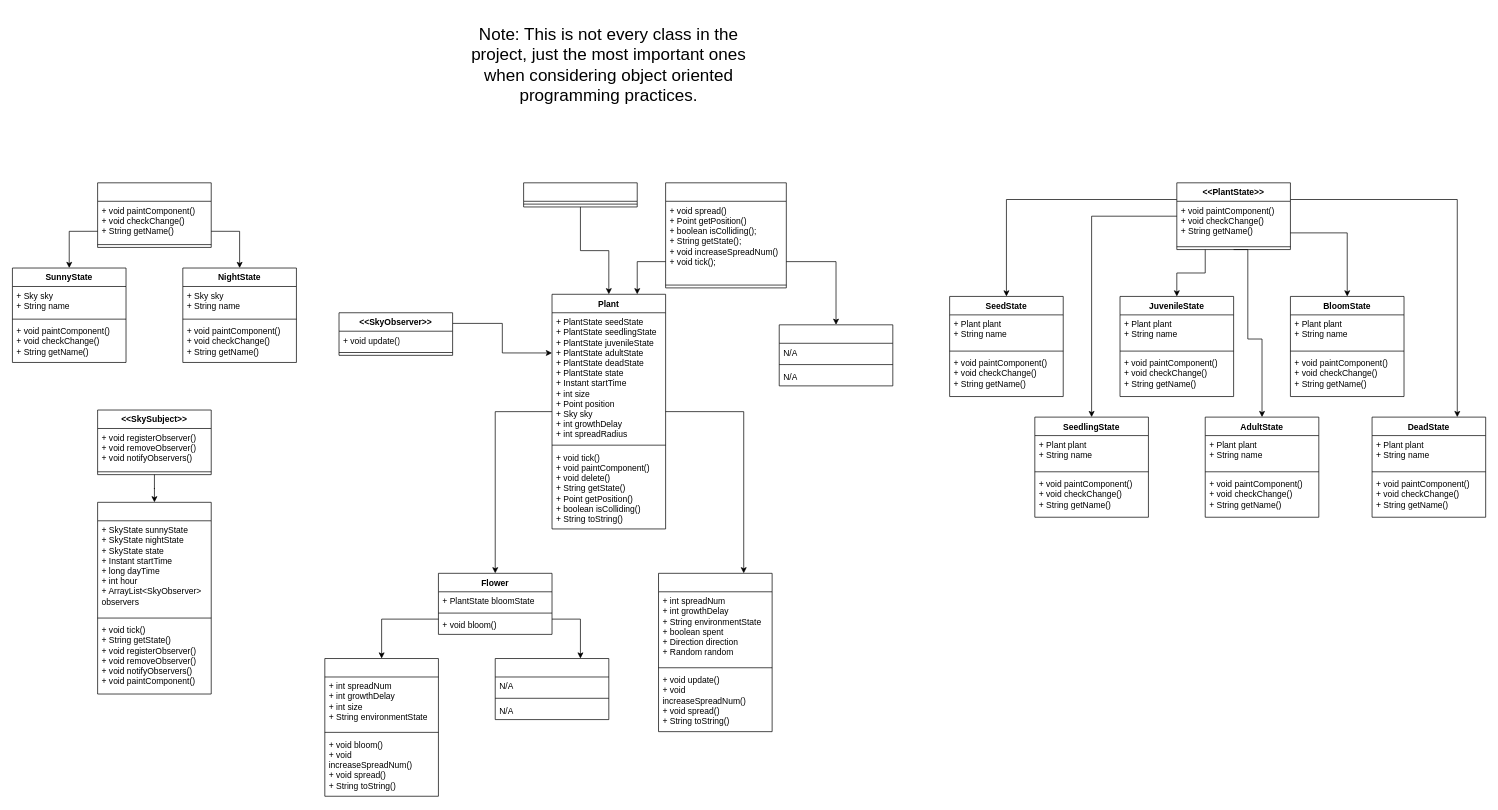
The diagram is 1498 pixels wide and 810 high, and some of its shapes have lost their labels. The box of each missing label's shape, as (x1, y1, x2, y2) in pixels:
<<Growable>>: (665, 182, 786, 288)
<<SkyState>>: (97, 182, 211, 247)
Fungus (Work in progress): (779, 324, 893, 386)
JPanel: (523, 182, 637, 207)
Others (Work in progress): (495, 658, 609, 720)
Sunflower: (324, 658, 438, 796)
Weed: (658, 573, 772, 732)
